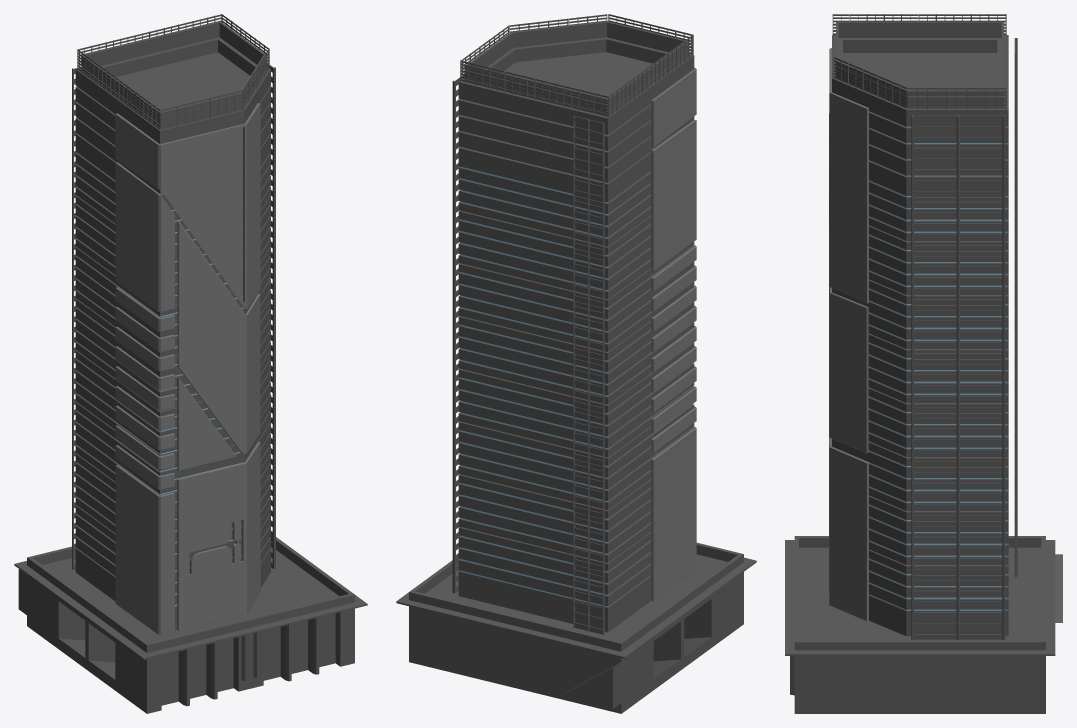
3 views of the same model, side by side, from view 1: azimuth 30°, elevation 25°; view 2: azimuth 150°, elevation 25°; view 3: azimuth 270°, elevation 25° (orthographic). The views are drawn at different scales.
Visible parts, largest first — view 1: polySurface19, polySurface4, polySurface20, polySurface46, polySurface24, polySurface47, polySurface22, polySurface52, polySurface51, polySurface49, polySurface50, polySurface53 (+17 smaller); view 2: polySurface19, polySurface4, polySurface51, polySurface49, polySurface52, polySurface50, polySurface48, polySurface53, polySurface6, polySurface54, polySurface47, polySurface22 (+23 smaller); view 3: polySurface19, polySurface4, polySurface20, polySurface46, polySurface24, polySurface52, polySurface49, polySurface51, polySurface50, polySurface48, polySurface53, polySurface6 (+12 smaller).
Part boxes in pixels (x1,y1,x2,y2): polySurface19: (14,536,367,713); polySurface4: (75,21,270,203); polySurface20: (115,103,260,309); polySurface46: (177,442,260,630); polySurface24: (177,221,260,454); polySurface47: (115,465,174,634); polySurface22: (115,162,174,311); polySurface52: (75,402,270,510); polySurface51: (75,350,270,459); polySurface49: (75,247,270,357); polySurface50: (75,298,270,411); polySurface53: (75,453,270,562); polySurface19: (396,542,756,713); polySurface4: (458,21,694,194); polySurface51: (458,343,694,457); polySurface49: (458,242,694,351); polySurface52: (458,403,694,509); polySurface50: (458,302,694,404); polySurface48: (458,210,651,299); polySurface53: (458,474,651,562); polySurface6: (458,159,651,246); polySurface54: (458,527,651,610); polySurface47: (651,426,696,601); polySurface22: (651,120,696,271); polySurface19: (785,536,1062,713); polySurface4: (832,21,1008,188); polySurface20: (829,48,868,303); polySurface46: (829,436,868,621); polySurface24: (829,144,868,453); polySurface52: (832,439,1008,510); polySurface49: (832,279,1008,348); polySurface51: (868,387,1008,456); polySurface50: (868,333,1008,402); polySurface48: (869,225,1008,294); polySurface53: (869,495,1008,564); polySurface6: (869,172,1008,240).
Size of what is drawn, in the model's own units: 0.1045 by 0.2616 by 0.1074.
